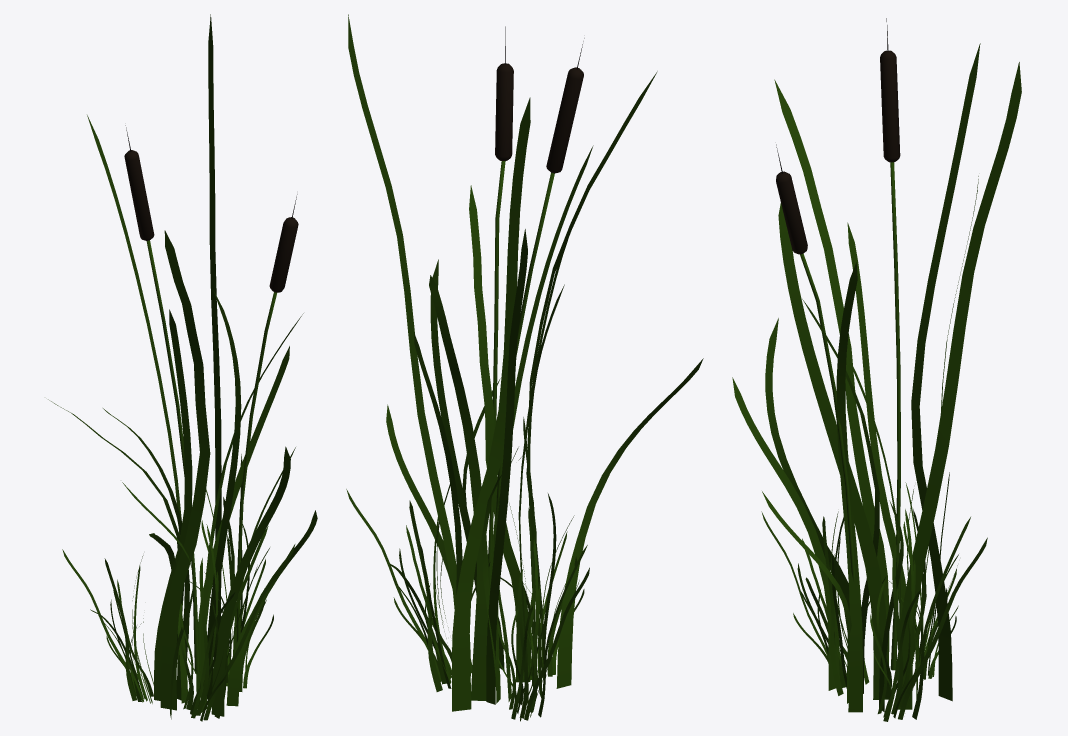
File: cattails.glb
3 views of the same model, side by side, from view 1: azimuth 30°, elevation 25°; view 2: azimuth 150°, elevation 25°; view 3: azimuth 270°, elevation 25° (orthographic). The views are drawn at different scales.
Parts seen in each view (by area): view 1: Object_4; view 2: Object_4; view 3: Object_4.
Part boxes in pixels (box(x1,y1,x2,y2)): Object_4: box(48, 14, 317, 721); Object_4: box(346, 14, 703, 721); Object_4: box(732, 18, 1021, 721).
Size of the model in its own units: 0.7584 by 2 by 0.8612.
Materials: 1 (1 with a texture image).
